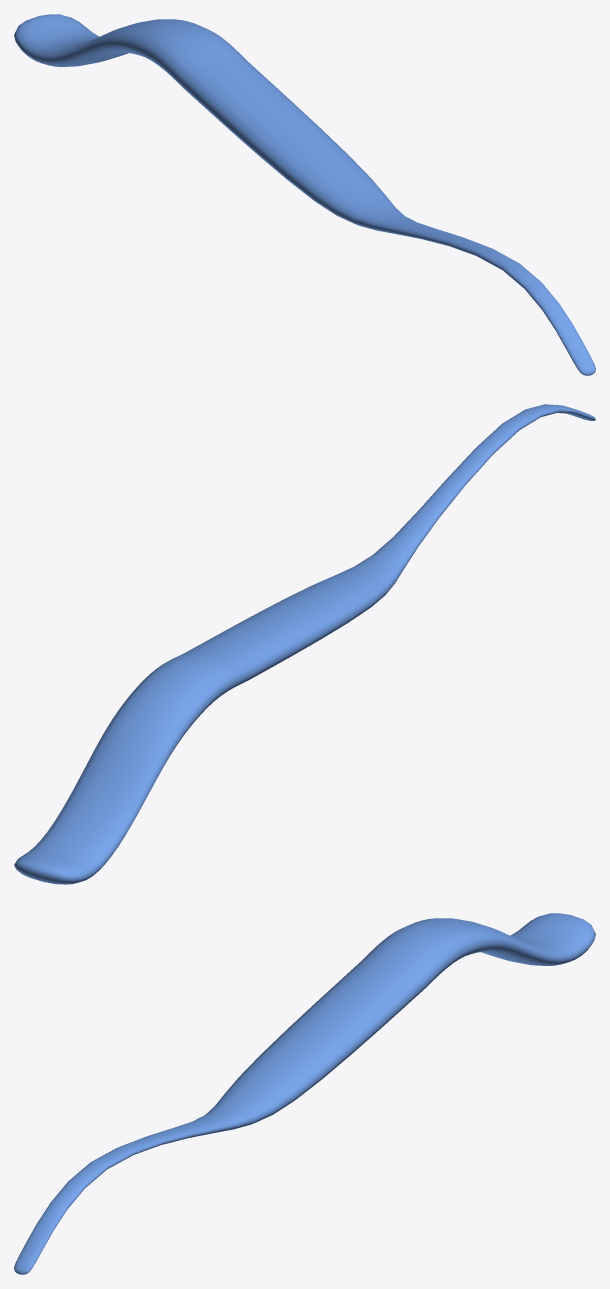
Rendered from slope1.fbx.
3 renders of one model, top to bottom at view 1: azimuth 30°, elevation 25°; view 2: azimuth 150°, elevation 25°; view 3: azimuth 330°, elevation 25°, orthographic.
Parts seen in each view (by area): view 1: Cube; view 2: Cube; view 3: Cube.
Boxes of the visible parts, bbox=[...] form: Cube: bbox=[14, 14, 595, 375]; Cube: bbox=[14, 404, 595, 884]; Cube: bbox=[14, 913, 595, 1274].
Size of the model in its own units: 332 by 565 by 4638.
